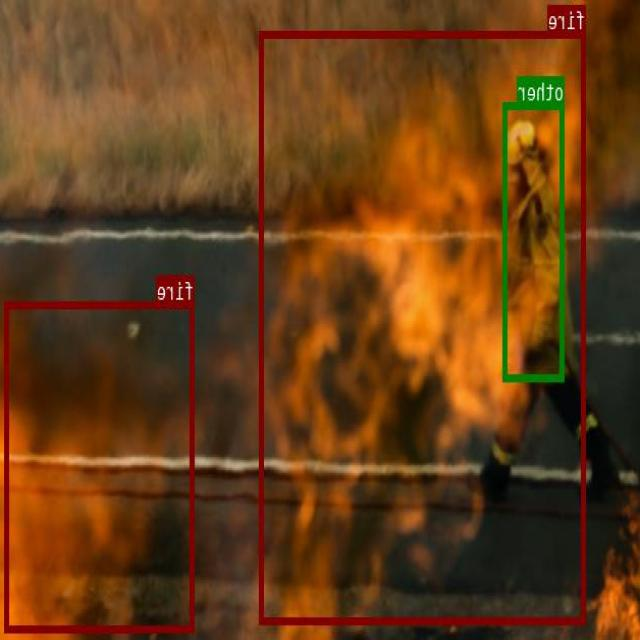fire: (261, 30, 587, 623), (6, 300, 196, 632)
other: (504, 101, 566, 379)
